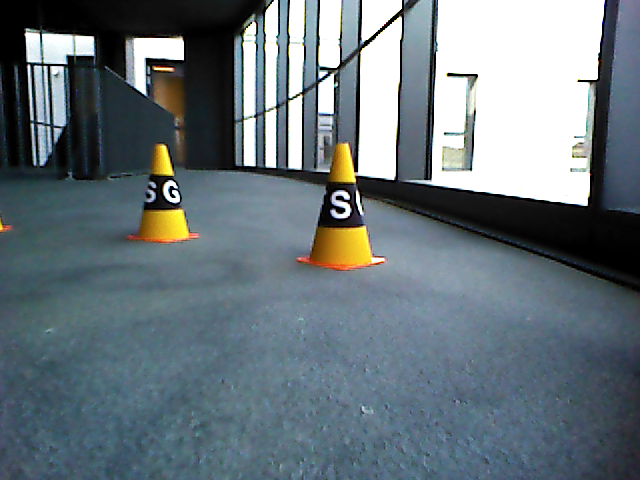yellowcone: (311, 143, 370, 260), (137, 144, 189, 235)
